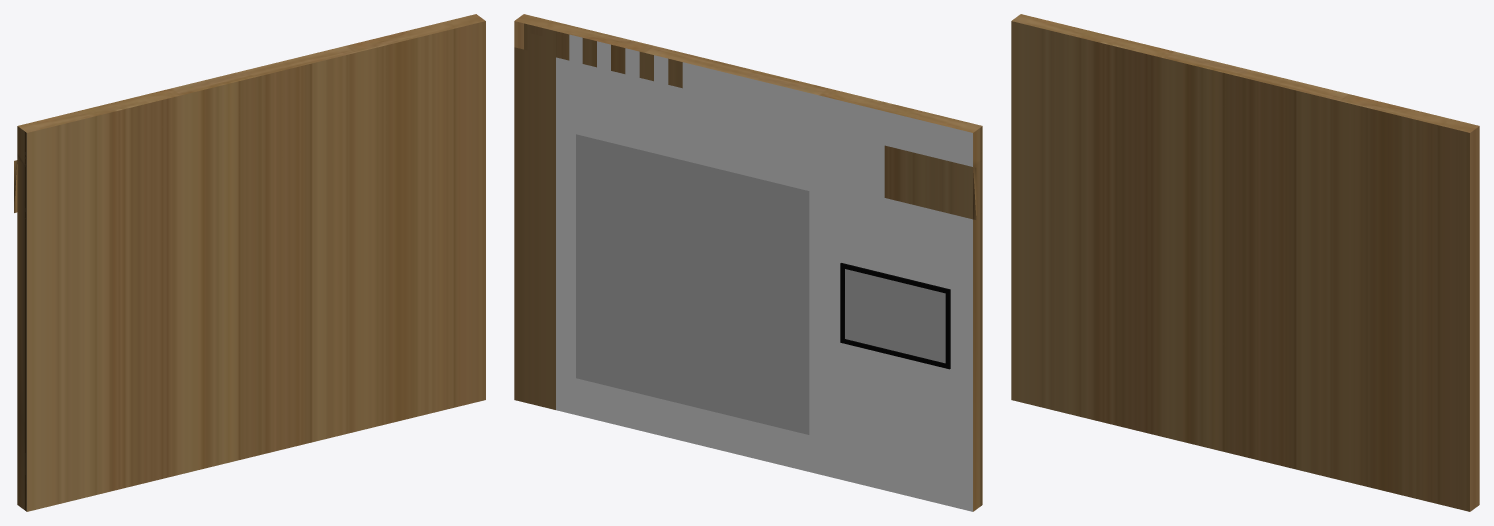
Rendered from ParedPantallaS4.obj.
3 renders of one model, left to right at view 1: azimuth 30°, elevation 25°; view 2: azimuth 150°, elevation 25°; view 3: azimuth 330°, elevation 25°, orthographic.
Parts seen in each view (by area): view 1: ParedPantallaS4; view 2: ParedPantallaS4; view 3: ParedPantallaS4.
Part boxes in pixels (box(x1,y1,x2,y2)): ParedPantallaS4: box(14, 14, 485, 511); ParedPantallaS4: box(514, 14, 982, 511); ParedPantallaS4: box(1011, 14, 1479, 511).
Size of the model in its own units: 15.86 by 12.43 by 0.6304.
